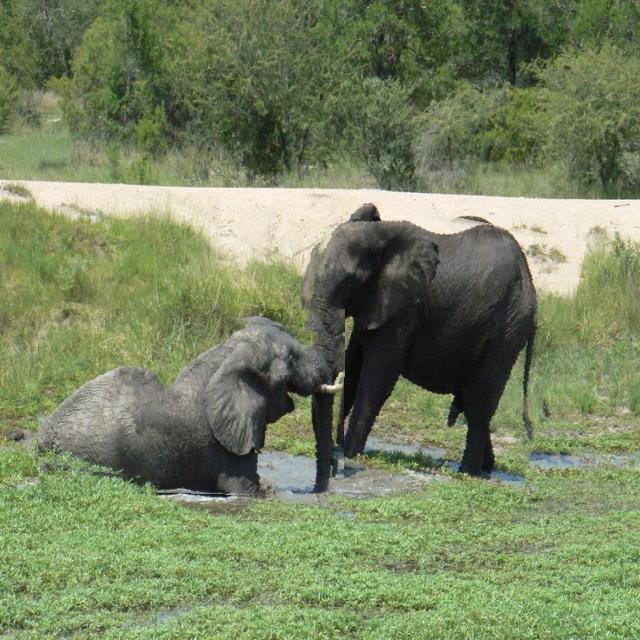elephant: (293, 203, 575, 487), (38, 309, 345, 498)
